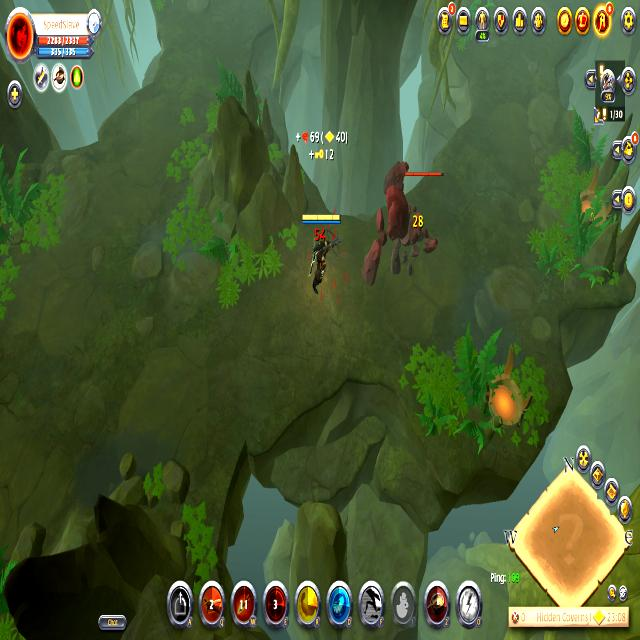ore: (362, 160, 445, 289)
red: (301, 212, 342, 304)
